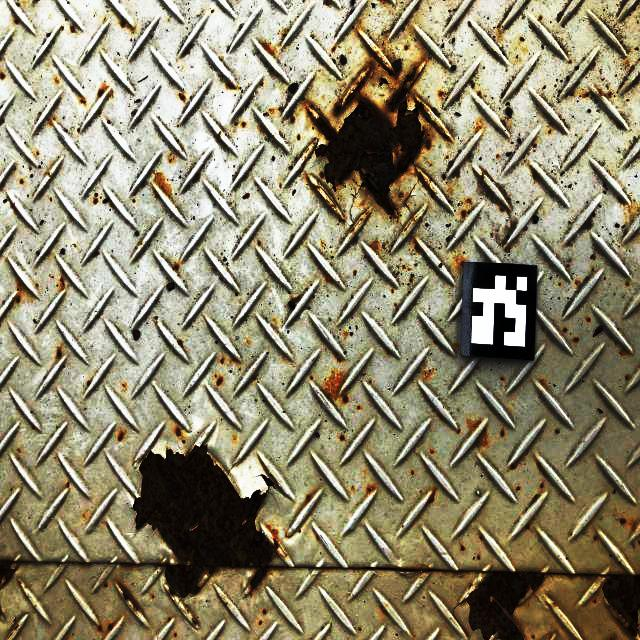Corrosion: (133, 446, 273, 598), (308, 88, 425, 216), (468, 573, 545, 640), (604, 576, 640, 640), (0, 556, 18, 589), (345, 81, 363, 104), (122, 589, 139, 610), (420, 173, 435, 195), (404, 68, 418, 88), (261, 474, 277, 487), (431, 118, 444, 132), (97, 84, 106, 96), (335, 102, 343, 114), (425, 138, 433, 149), (117, 431, 125, 442), (216, 376, 224, 386), (56, 348, 62, 358), (60, 277, 64, 290), (176, 428, 181, 436), (174, 263, 179, 270), (93, 197, 96, 204)
